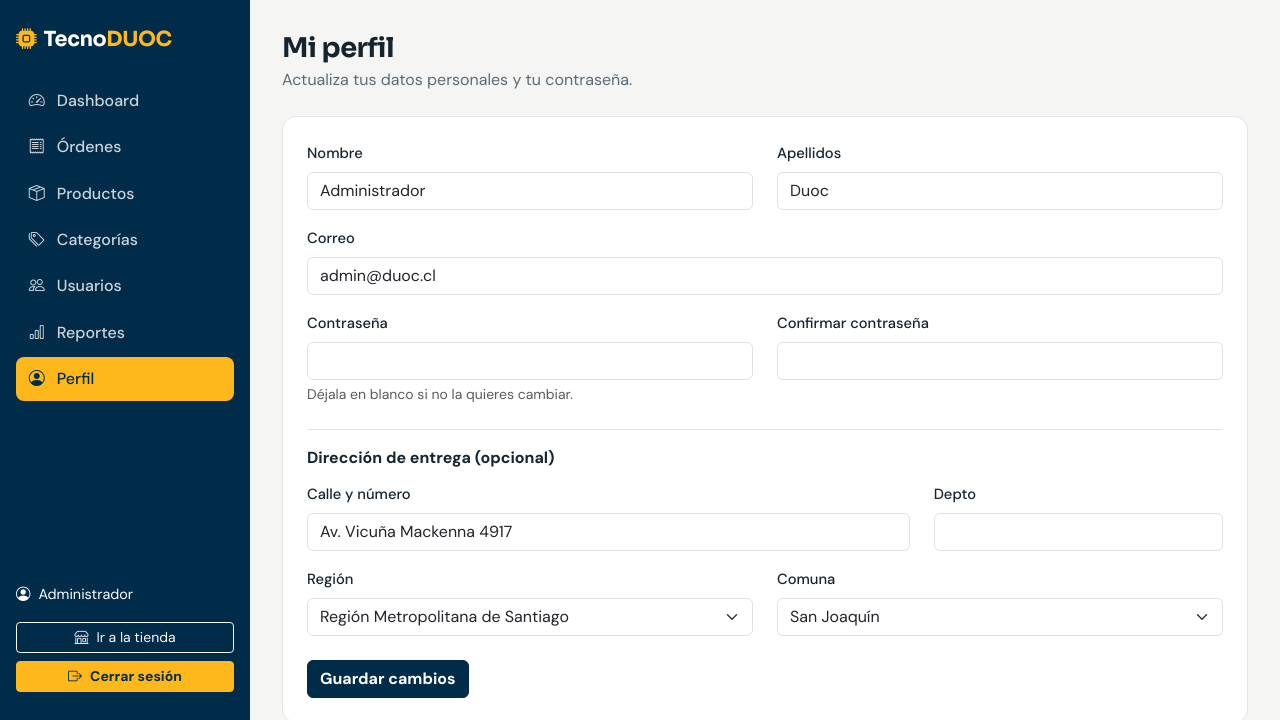
Test: App (rutas y estado compartido) › guardar el perfil cambia el nombre que aparece en el menu
Replace the text in the field labelled "Nombre" with "Nuevo Nombre" at x=530, y=191, box x1=307 y1=172 x2=753 y2=210
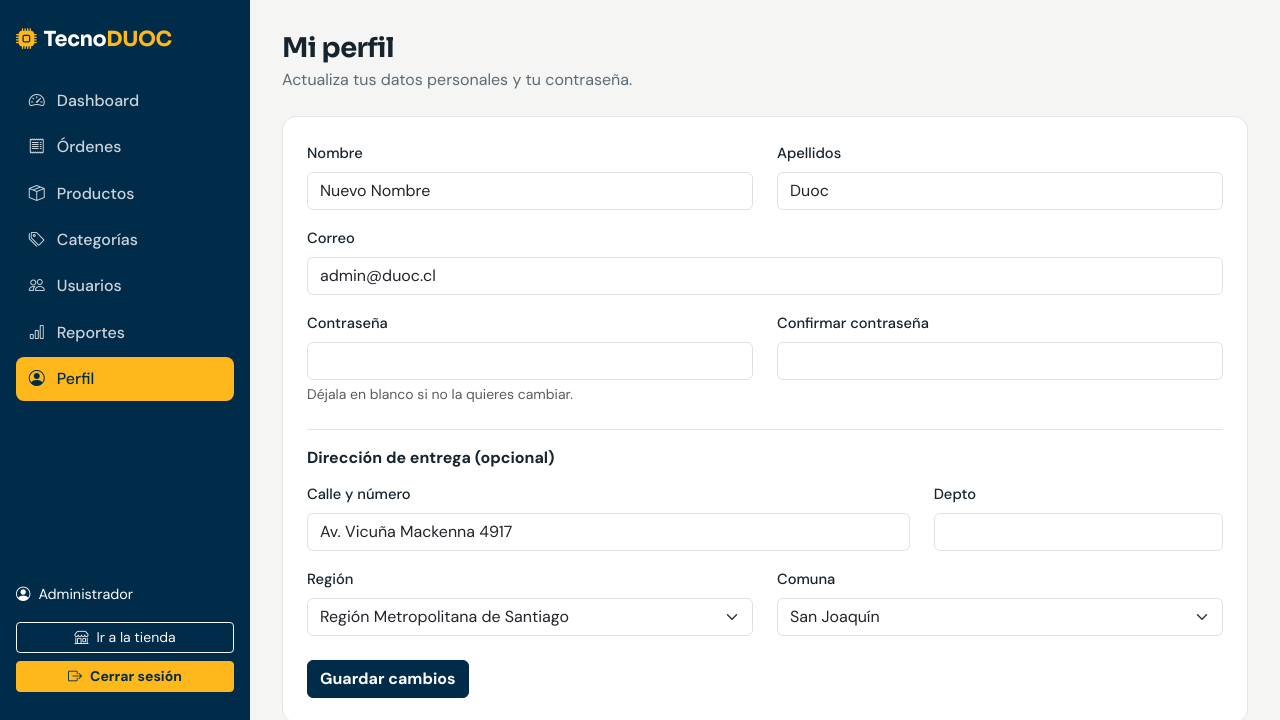
Click the button "Guardar cambios" at x=388, y=679, box x1=307 y1=660 x2=468 y2=698
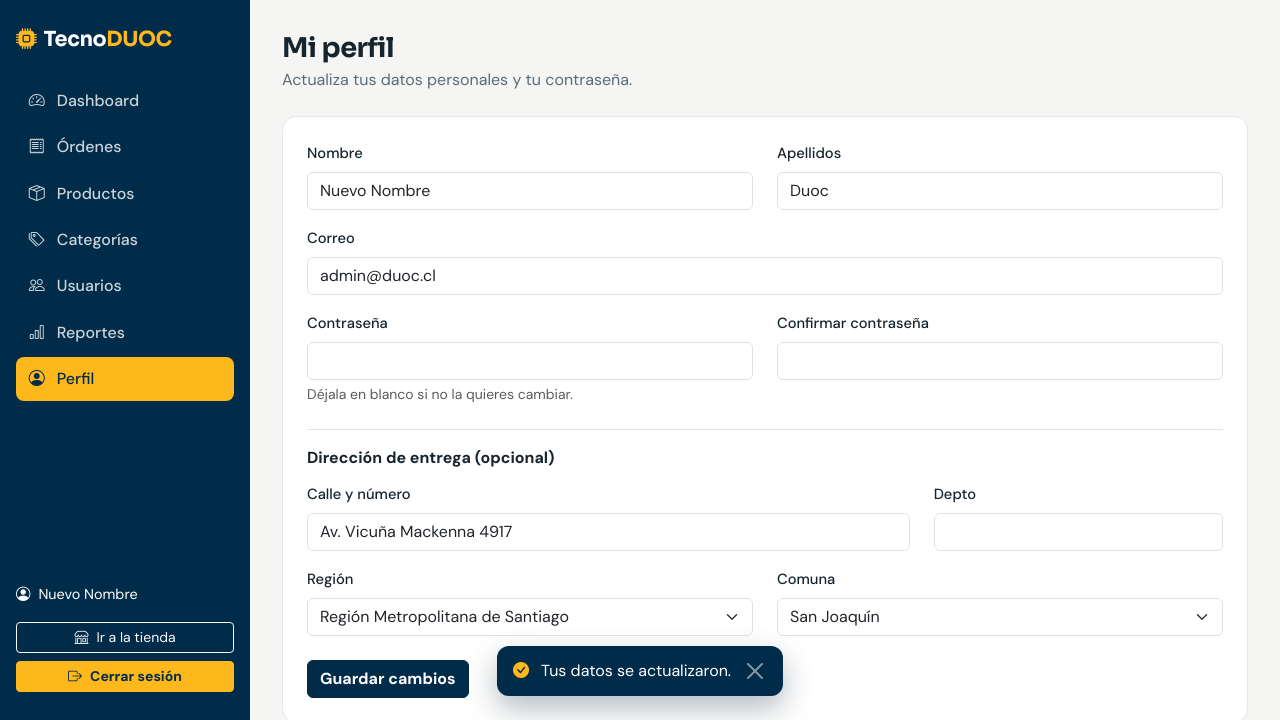
Check: the text "Nuevo Nombre" is shown, box x1=16 y1=585 x2=138 y2=603
